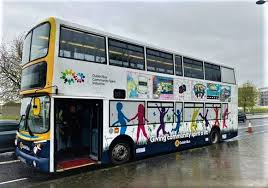bus: (15, 16, 238, 174)
